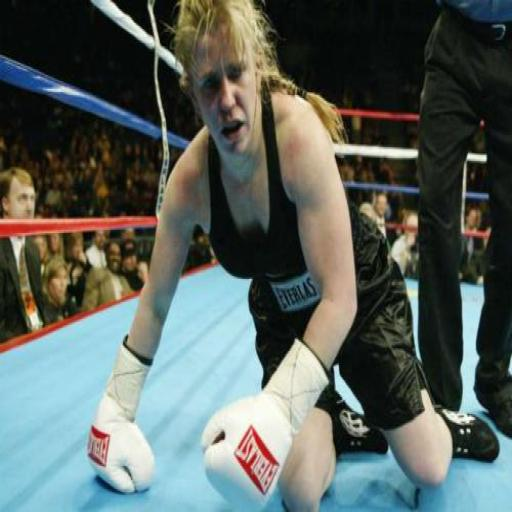boxing: (84, 0, 498, 510)
